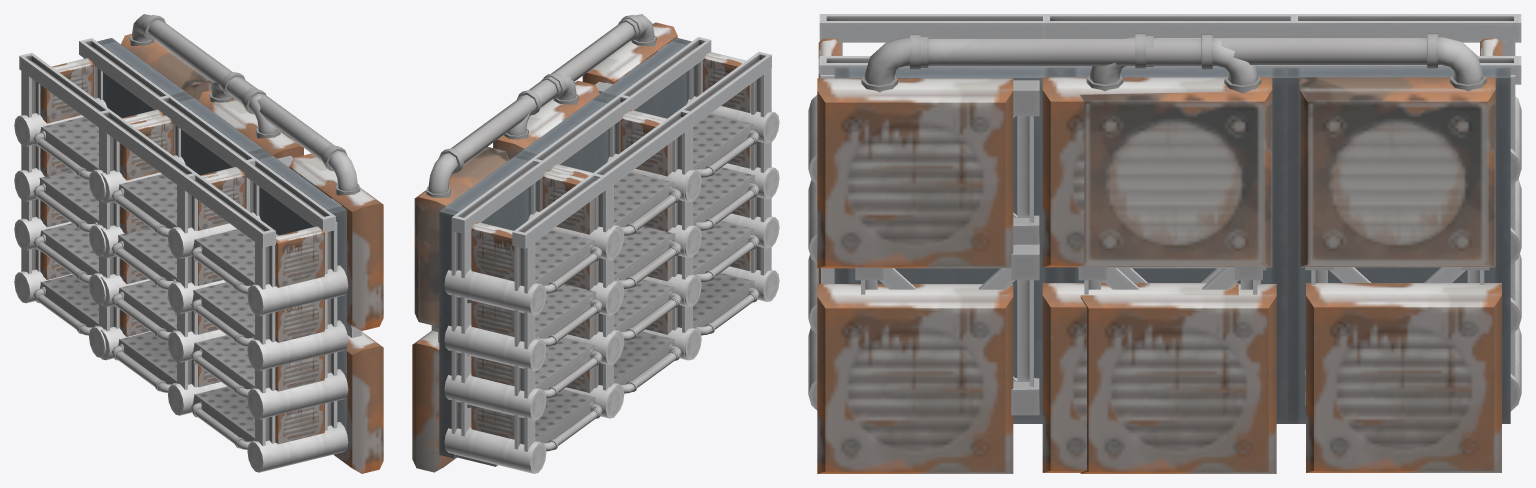
The model's file is Pfb_Server_02_Temp.fbx.
The picture shows the model from 3 angles, left to right: view 1: azimuth 30°, elevation 25°; view 2: azimuth 150°, elevation 25°; view 3: azimuth 270°, elevation 25°; orthographic projection. The views are drawn at different scales.
Parts seen in each view (by area): view 1: Mat_Shop_Shelf_01_1, OutDoor, Mat_SteelFrame_01, Mat_WaterTankButt_01_G, Mat_Pipe_01, OutDoor_New; view 2: Mat_Shop_Shelf_01_1, Mat_SteelFrame_01, Mat_WaterTankButt_01_G, OutDoor, Mat_Pipe_01, OutDoor_New; view 3: OutDoor, OutDoor_New, Mat_SteelFrame_01, Mat_Shop_Shelf_01_1, Mat_Pipe_01, Mat_WaterTankButt_01_G.
Boxes of the visible parts, x1,y1,x2,y2 form: Mat_Shop_Shelf_01_1: (39,38,346,450); OutDoor: (40,58,383,473); Mat_SteelFrame_01: (19,38,361,445); Mat_WaterTankButt_01_G: (14,98,348,472); Mat_Pipe_01: (33,14,360,449); OutDoor_New: (121,34,290,138); Mat_Shop_Shelf_01_1: (439,38,755,466); Mat_SteelFrame_01: (431,37,771,451); Mat_WaterTankButt_01_G: (444,96,779,473); OutDoor: (412,22,750,472); Mat_Pipe_01: (426,14,759,451); OutDoor_New: (414,135,536,326); OutDoor: (817,38,1502,473); OutDoor_New: (1077,77,1495,267); Mat_SteelFrame_01: (819,14,1521,415); Mat_Shop_Shelf_01_1: (834,67,1510,423); Mat_Pipe_01: (861,33,1486,93); Mat_WaterTankButt_01_G: (808,95,1521,411).
Bounding box in the file's own units: 0.9556 × 2.1 × 3.14.
Materials: 6 (6 with a texture image).
